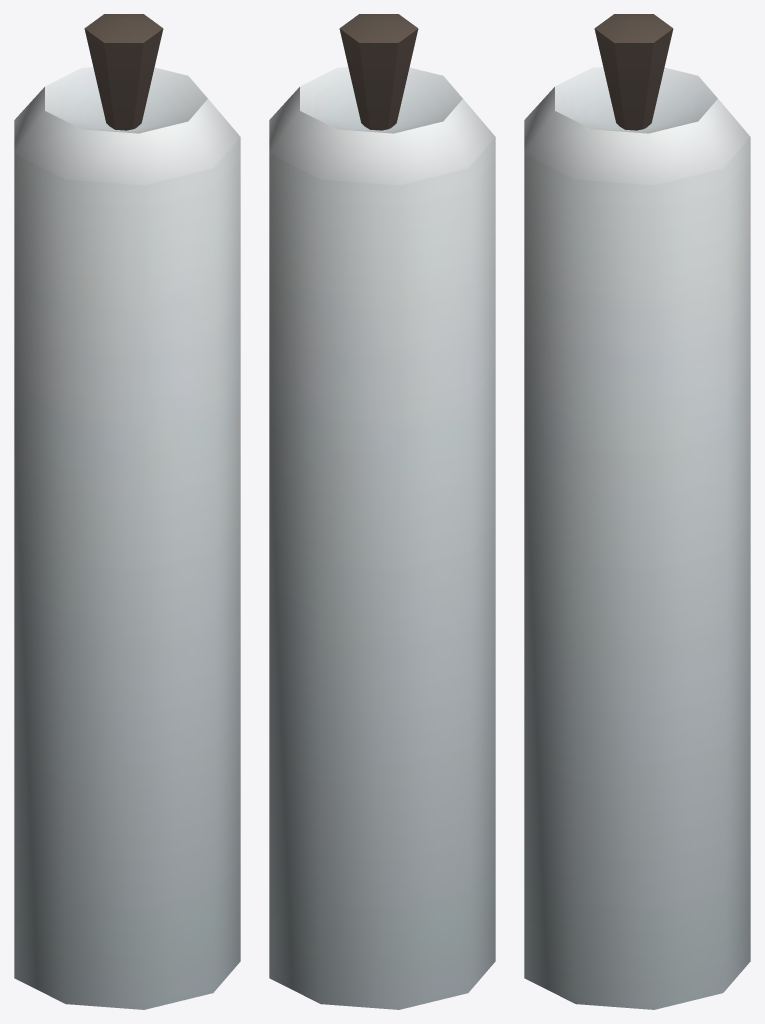
File: candle-thin.glb
3 views of the same model, side by side, from view 1: azimuth 30°, elevation 25°; view 2: azimuth 150°, elevation 25°; view 3: azimuth 270°, elevation 25° (orthographic).
Visible parts, largest first — view 1: candle_thin; view 2: candle_thin; view 3: candle_thin.
Part boxes in pixels (box(x1,y1,x2,y2)): candle_thin: box(14, 14, 240, 1009); candle_thin: box(269, 14, 495, 1009); candle_thin: box(524, 14, 750, 1009).
Size of the model in its own units: 0.1739 by 0.7857 by 0.1712.
Materials: 1 (1 with a texture image).
